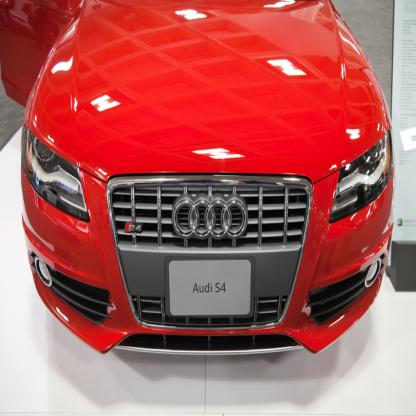Car: (1, 1, 396, 355)
